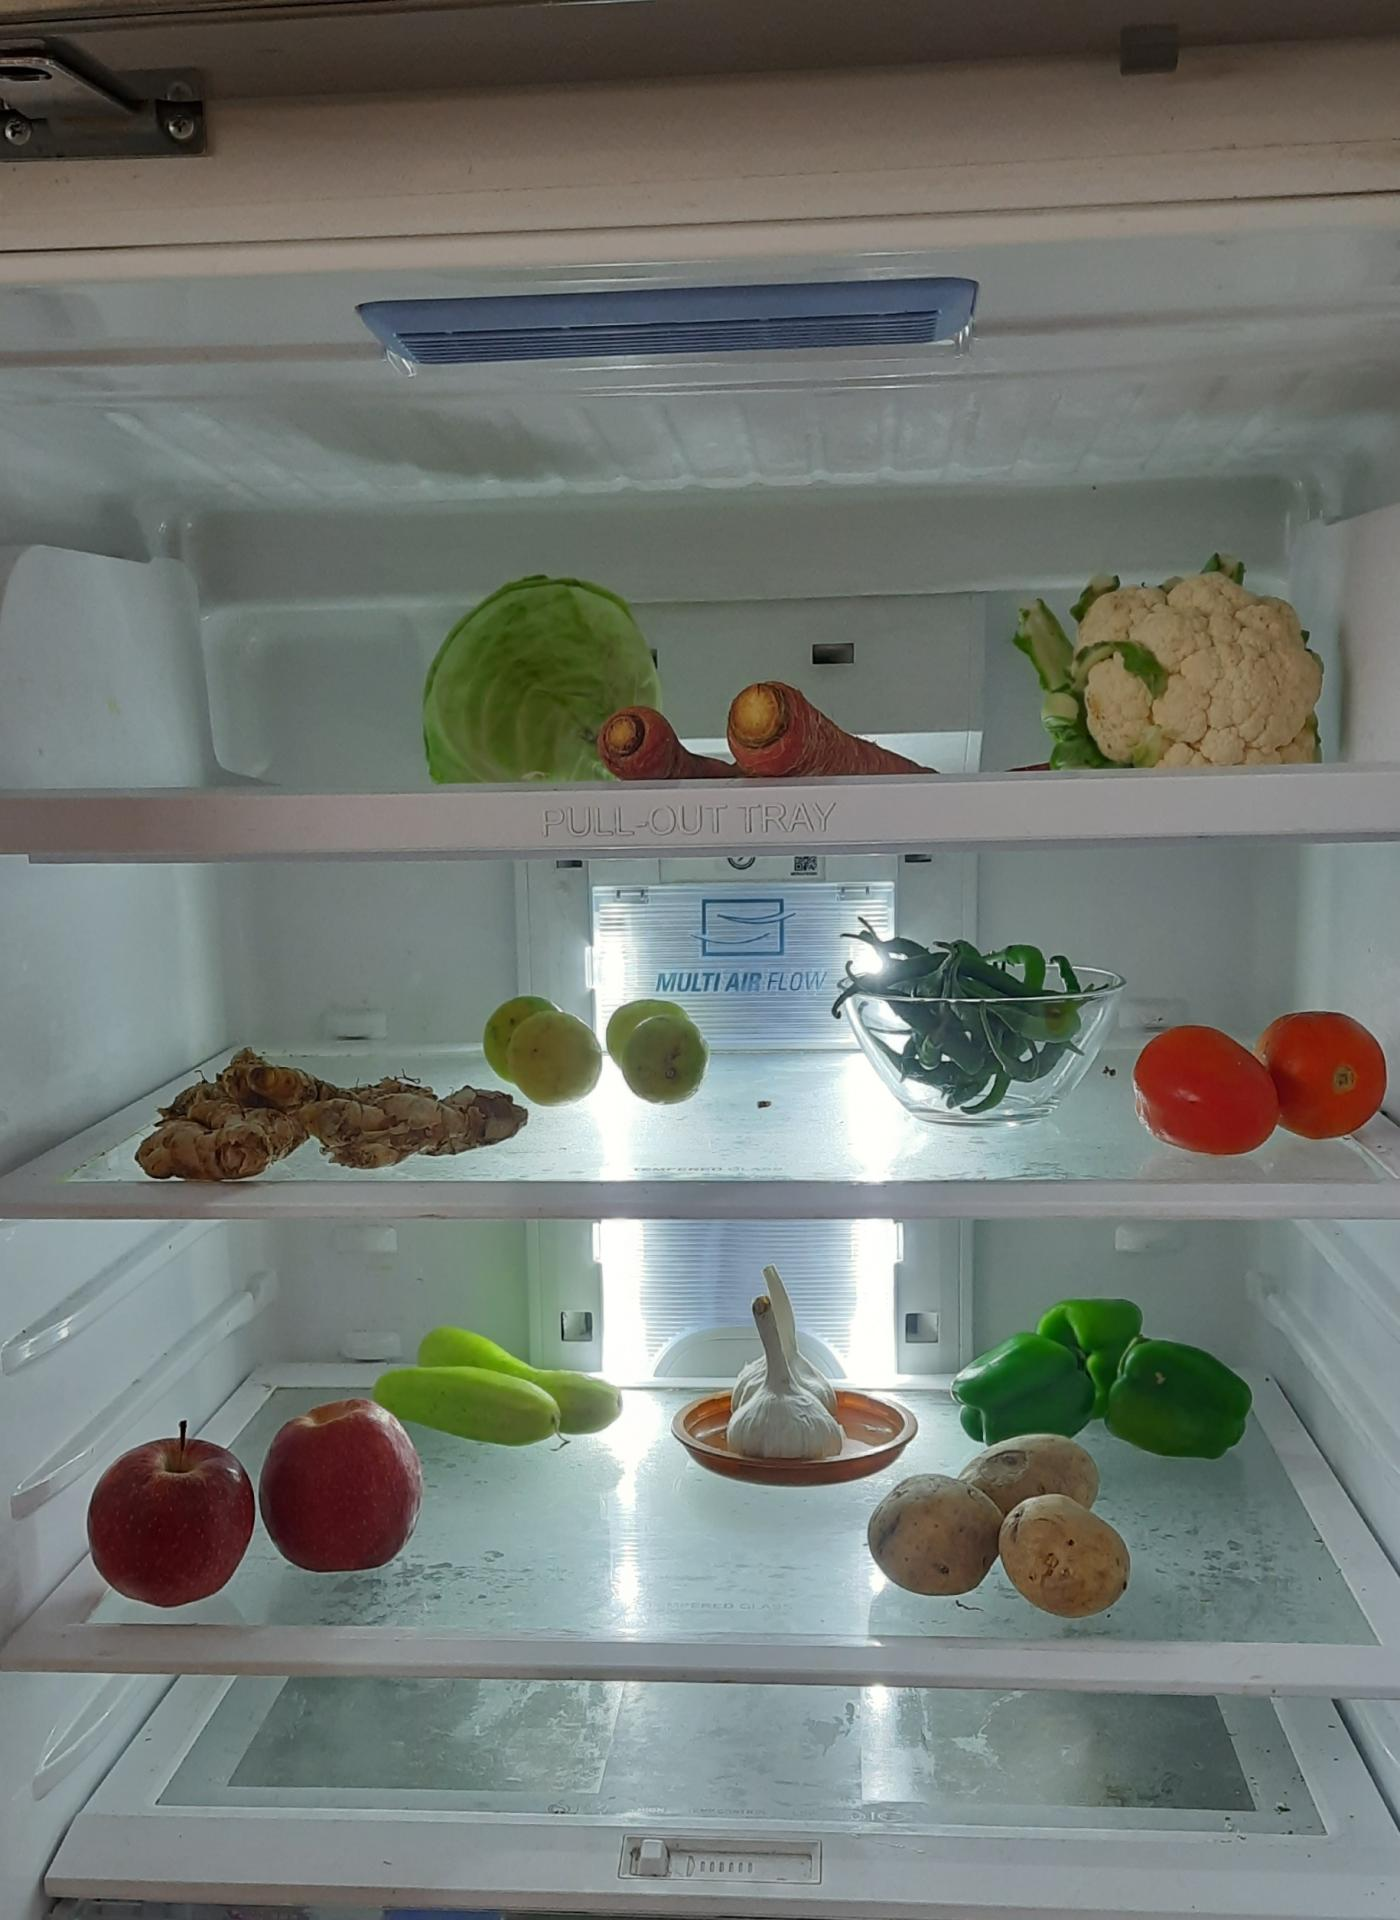apple: (79, 1412, 253, 1607), (259, 1391, 429, 1576)
cabbage: (417, 571, 674, 775)
capsicum: (951, 1288, 1263, 1461)
carrots: (595, 690, 968, 796)
cauliflower: (1021, 549, 1330, 765)
chillies: (839, 929, 1102, 1120)
cucumber: (373, 1319, 632, 1441)
garlic: (714, 1258, 856, 1464)
ginger: (142, 1048, 485, 1164)
lemon: (479, 987, 605, 1103), (610, 988, 714, 1106)
potato: (869, 1427, 1130, 1613)
tomato: (1136, 1000, 1390, 1148)
